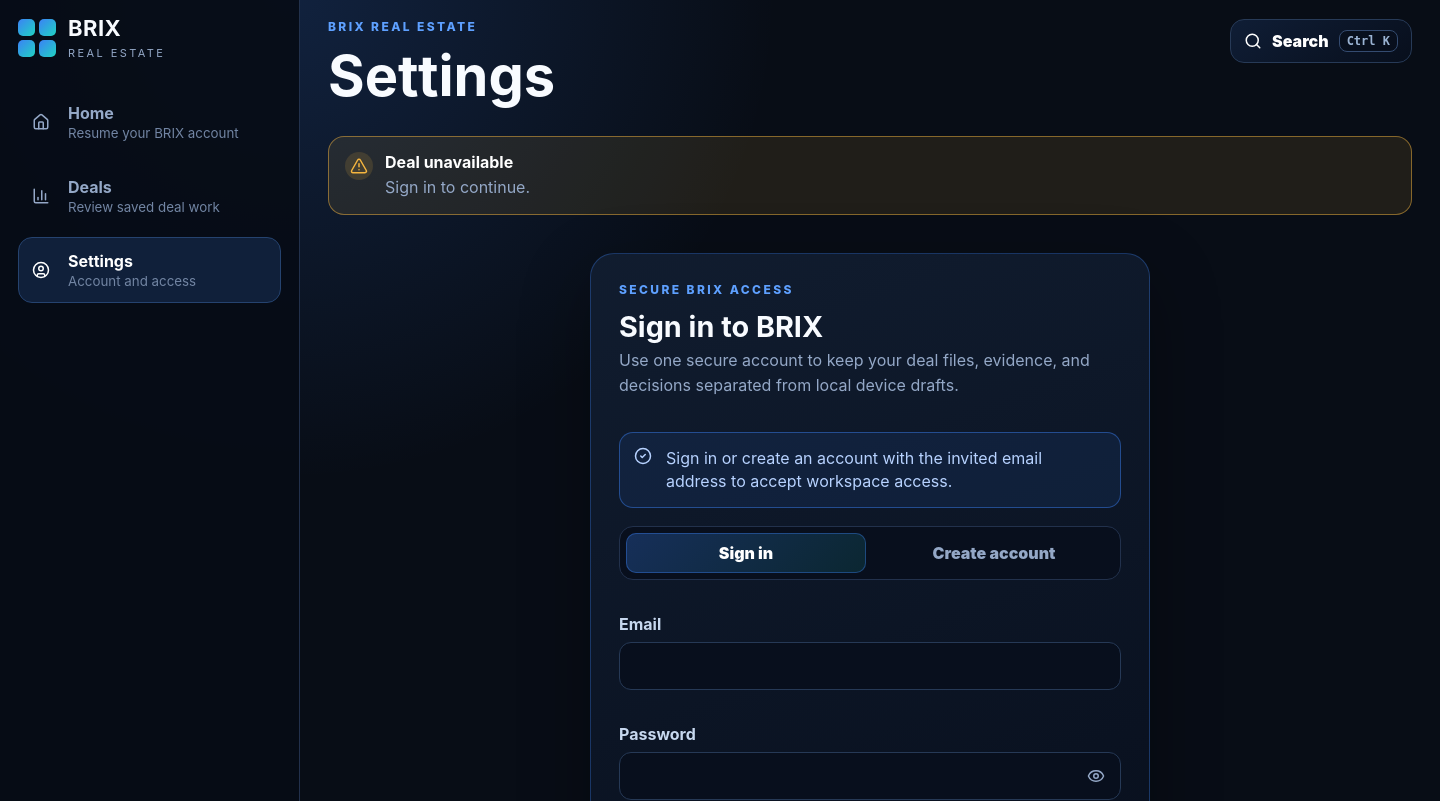
BRIX app module flow › accepts an invitation token after sign-in before workspace bootstrap
Check: the text "Sign in or create an account with the invited email address to accept workspace access." is shown, box [666, 448, 1042, 491]
Type "teammate@example.com" into the field labelled "Email". click: point(870, 666)
box: [619, 642, 1121, 690]
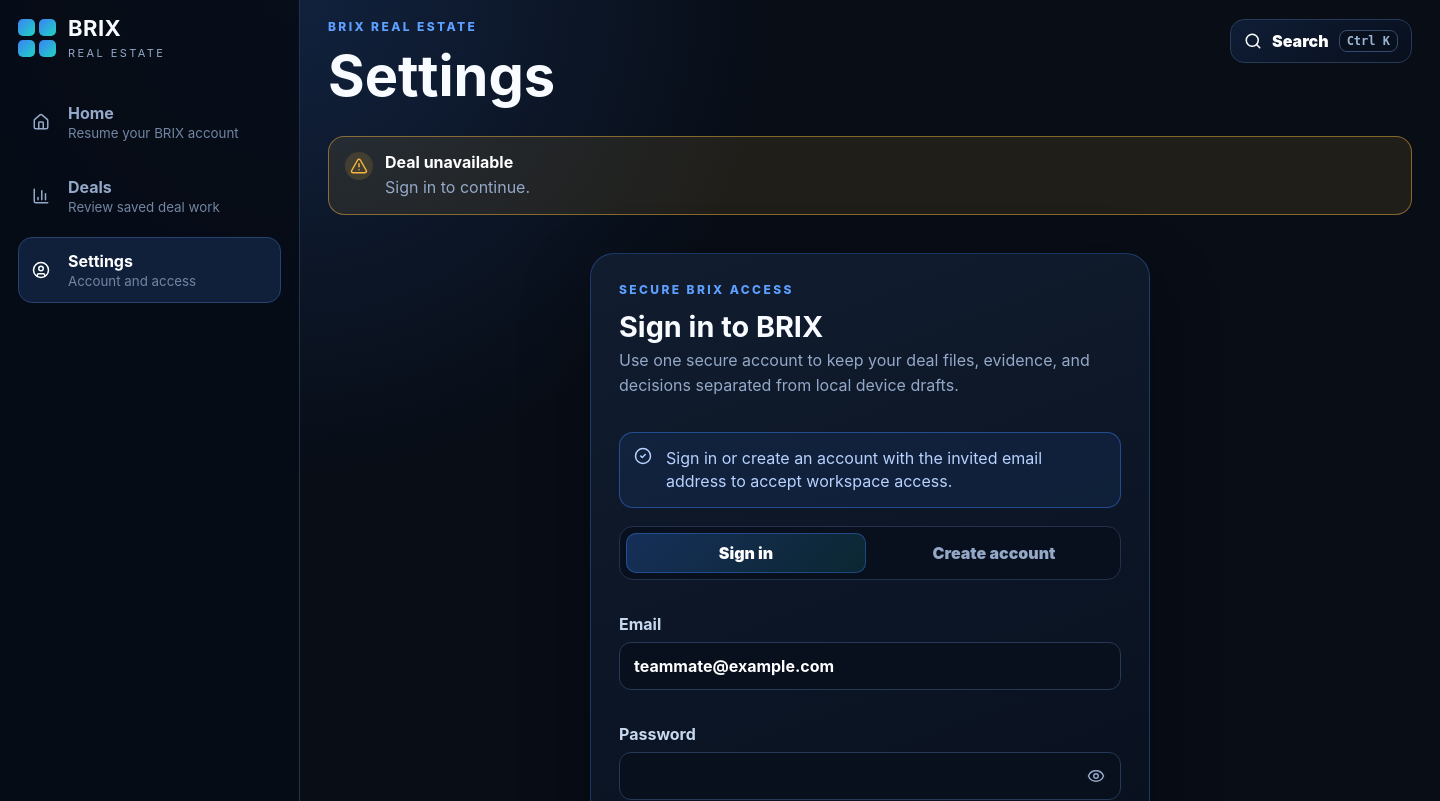
Type "password123" into the password field labelled "Password". click: point(870, 776)
box: [619, 752, 1121, 800]
(page scrolled)
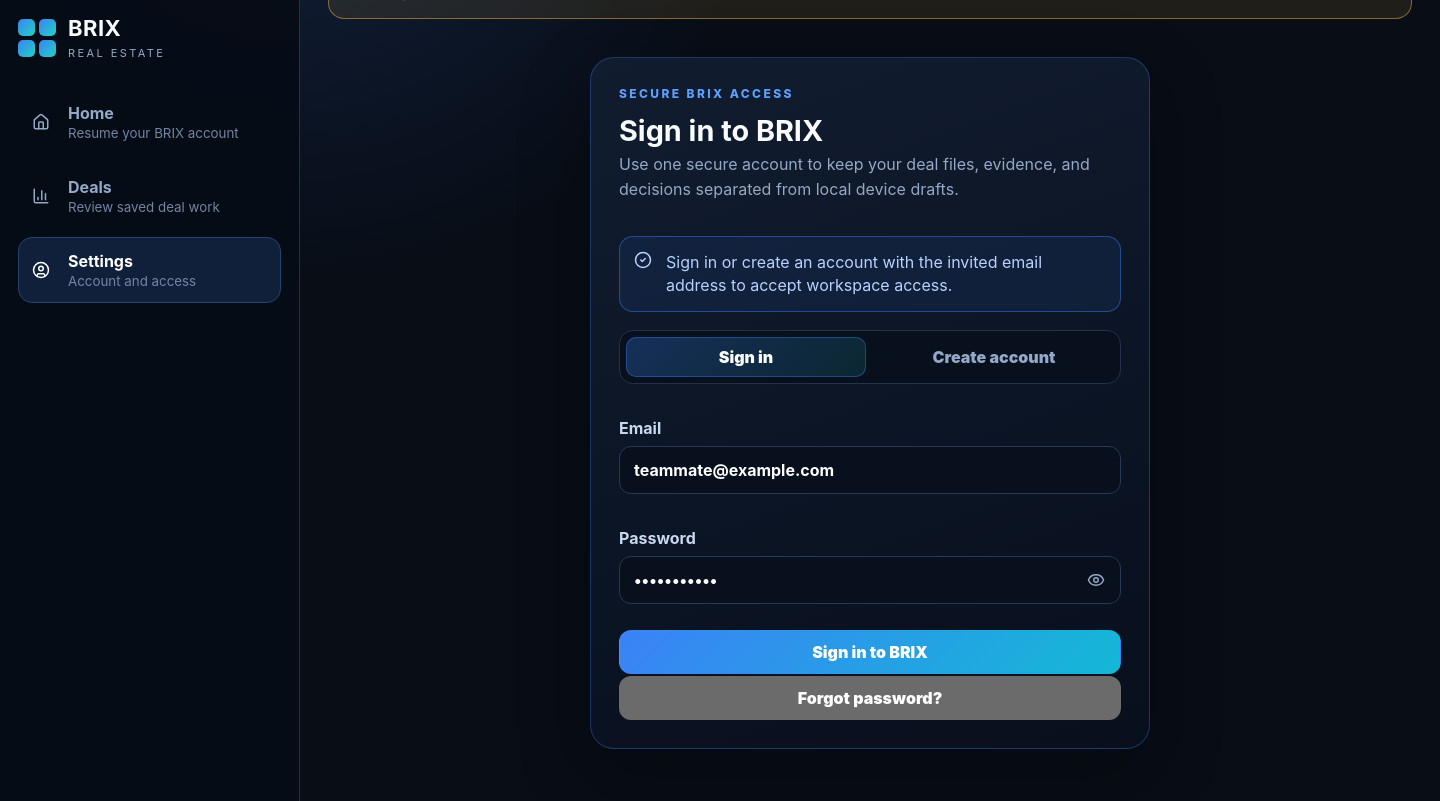
Click the button "Sign in to BRIX". click: point(870, 652)
box: [619, 630, 1121, 674]
(page scrolled)
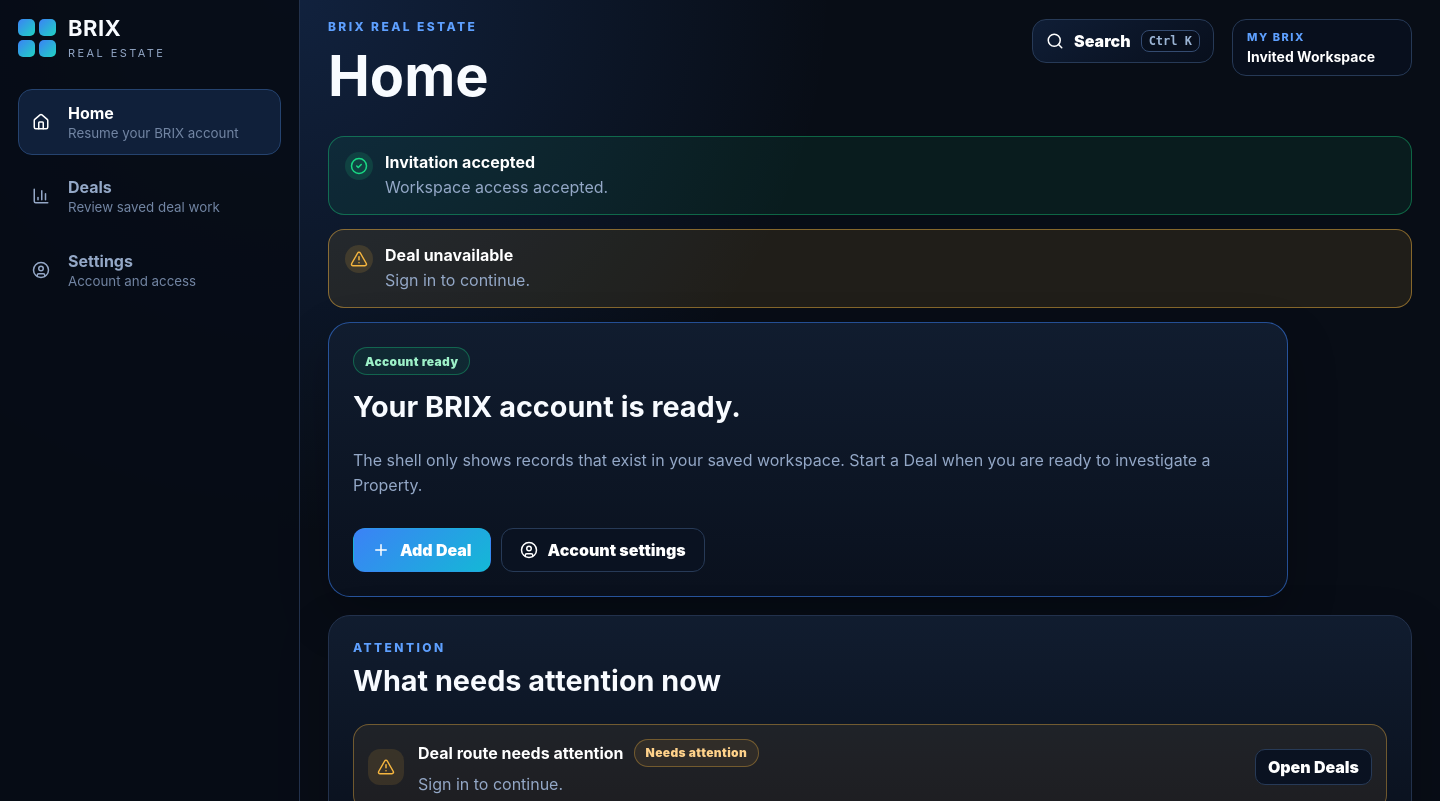
Check: the text "Workspace access accepted." is shown, box [385, 177, 608, 197]
Check: the text "Invited Workspace" is shown, box [1247, 48, 1397, 65]
